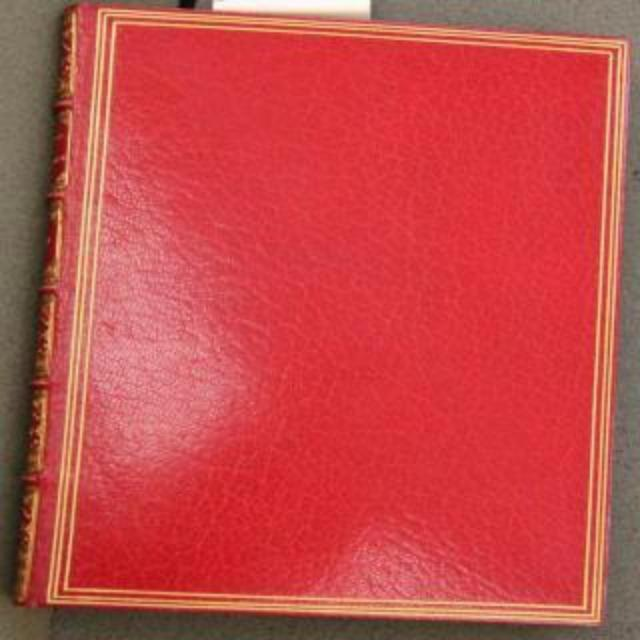book: (14, 0, 628, 626)
